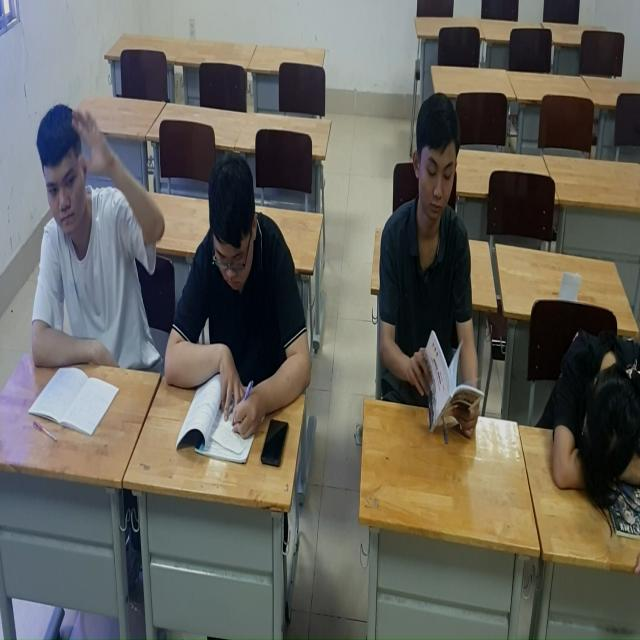raise_hand: (5, 99, 164, 423)
read: (152, 139, 312, 457), (359, 86, 487, 470)
sleep: (541, 295, 640, 524)
